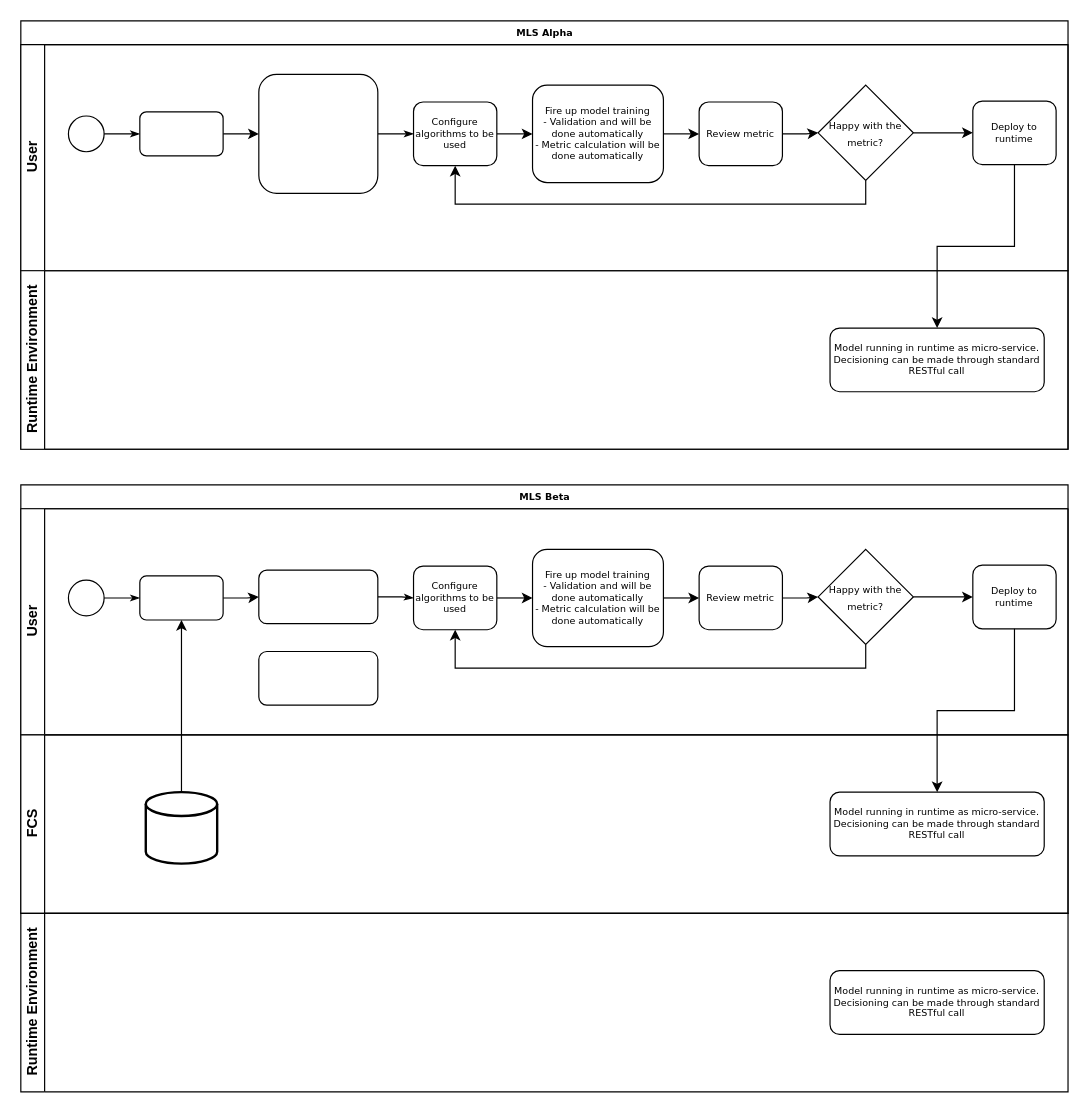
Image size: 1089x1113. Some labels were removed from this diagram. Each missing label, with the centre of its shape:
"- Select features - Select rows for training vs. validation" belongs at (318,596).
"FCS data" belongs at (181,827).
"Feature ranking" belongs at (318,677).
"Fire up MLS" belongs at (181,133).
"Upload a data file - Select features - Select rows for training vs. validation" belongs at (318,133).
"Using wizard, integrate data from FCS" belongs at (181,597).
